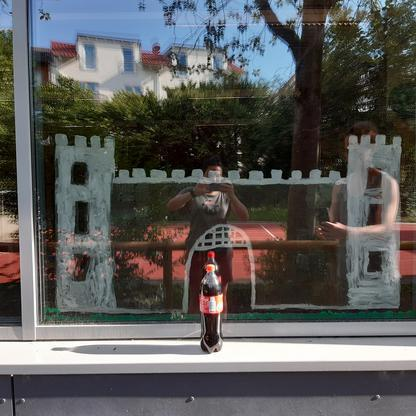coca-cola: (199, 263, 225, 357)
